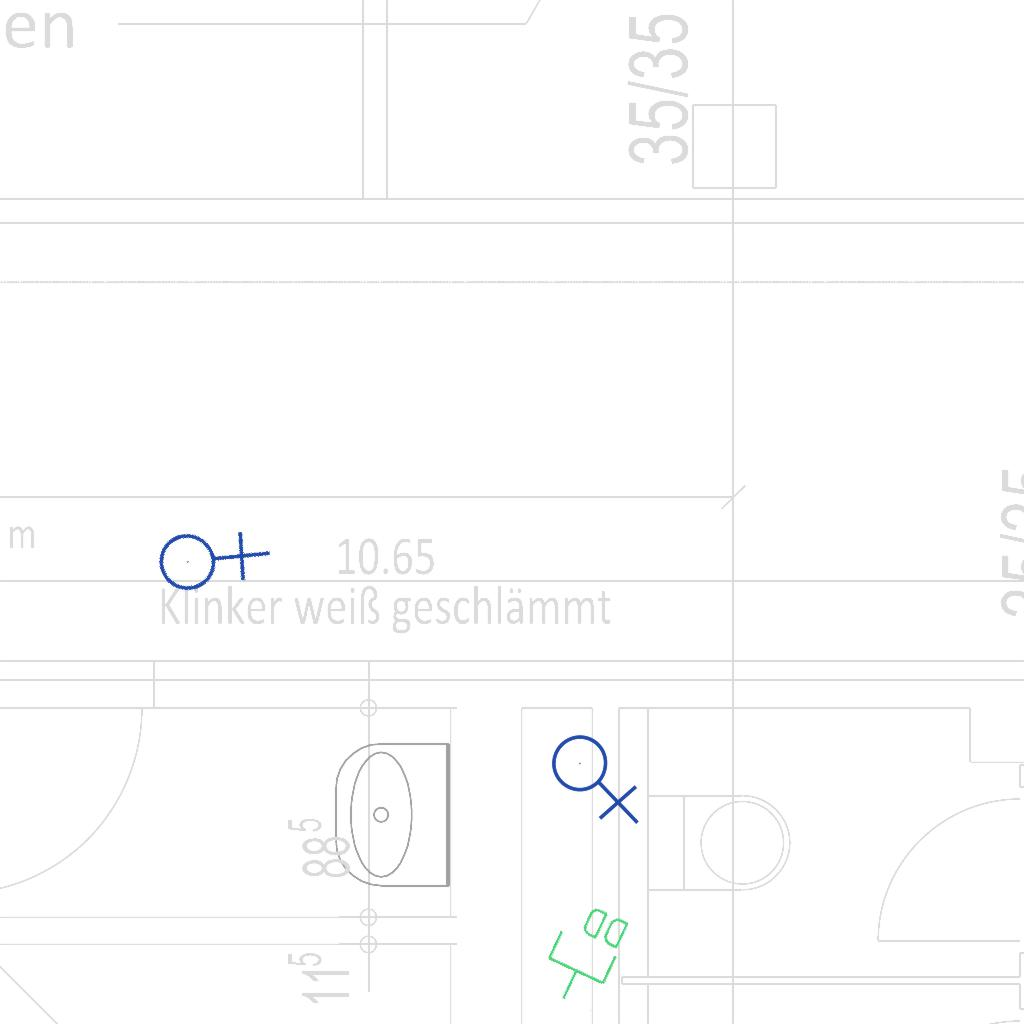Datenanschluss_zweifach: (531, 893, 638, 1016)
Elektroanschluss_allgemein_230V_Geraeteanschlussdose_230V: (139, 488, 276, 624), (550, 726, 644, 825)
